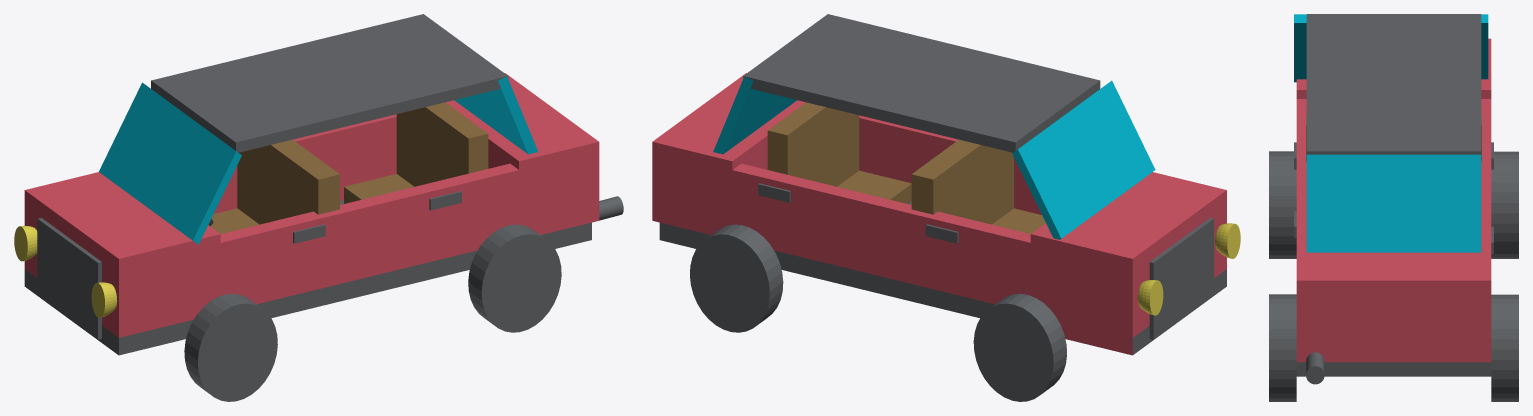
The model's file is Car.glb.
3 renders of one model, left to right at view 1: azimuth 30°, elevation 25°; view 2: azimuth 150°, elevation 25°; view 3: azimuth 270°, elevation 25°, orthographic. The views are drawn at different scales.
Visible parts, largest first — view 1: Mesh_Mesh_head_geo.001_lambert2SG.001; view 2: Mesh_Mesh_head_geo.001_lambert2SG.001; view 3: Mesh_Mesh_head_geo.001_lambert2SG.001.
Part boxes in pixels (box(x1,y1,x2,y2)): Mesh_Mesh_head_geo.001_lambert2SG.001: box(14, 14, 623, 401); Mesh_Mesh_head_geo.001_lambert2SG.001: box(652, 14, 1240, 401); Mesh_Mesh_head_geo.001_lambert2SG.001: box(1269, 14, 1518, 401).
Size of the model in its own units: 50 by 22 by 20.
